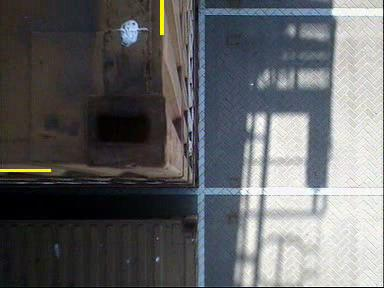groundmarker_2: (194, 175, 221, 213), (197, 1, 225, 30)
